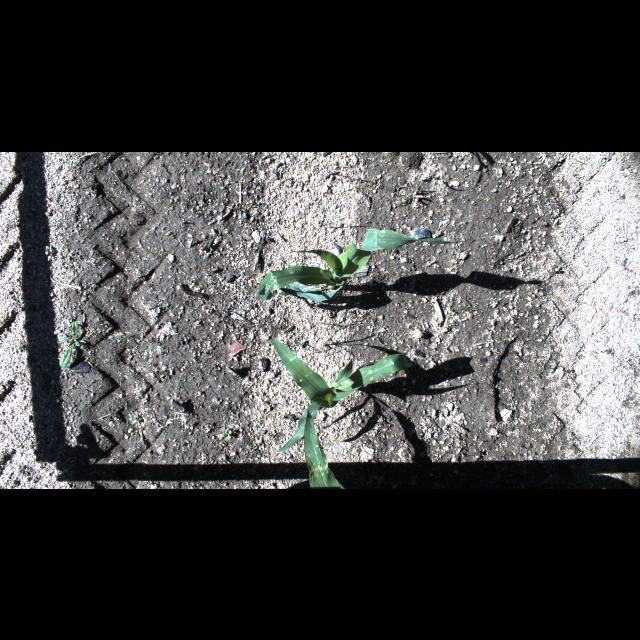crop: (270, 337, 410, 487), (249, 226, 466, 304)
weed: (54, 319, 84, 367), (314, 338, 354, 356), (288, 329, 310, 349), (432, 178, 452, 198), (125, 408, 143, 430), (344, 178, 366, 194), (118, 327, 138, 343), (318, 319, 348, 329), (39, 246, 59, 258), (551, 260, 565, 276), (16, 464, 28, 482), (214, 428, 234, 438), (28, 268, 48, 278), (17, 338, 29, 354), (524, 289, 538, 297)
